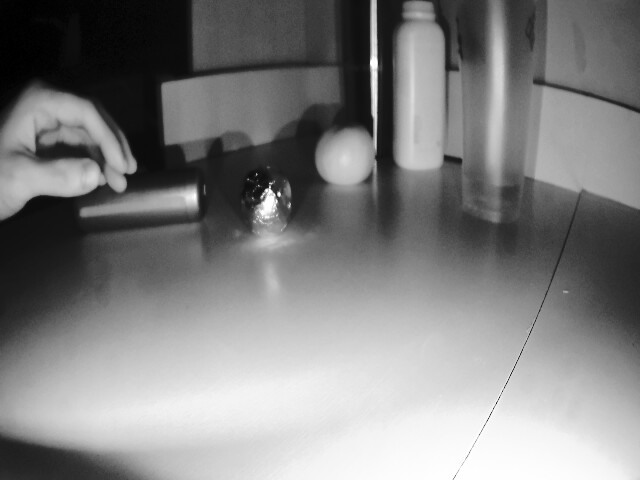black: (233, 166, 304, 257)
